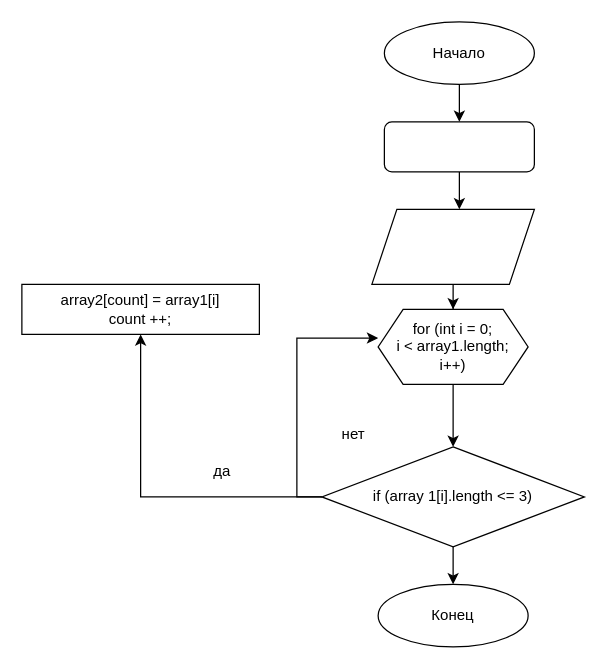
Some shapes in this 606 by 669 pixel diagram are drawn without their labels. Each missing label, with the centre of its shape:
"SecondArrayWithif" goes at [458,146].
"string[] array1 string array2 int count = 0" goes at [452,246].
